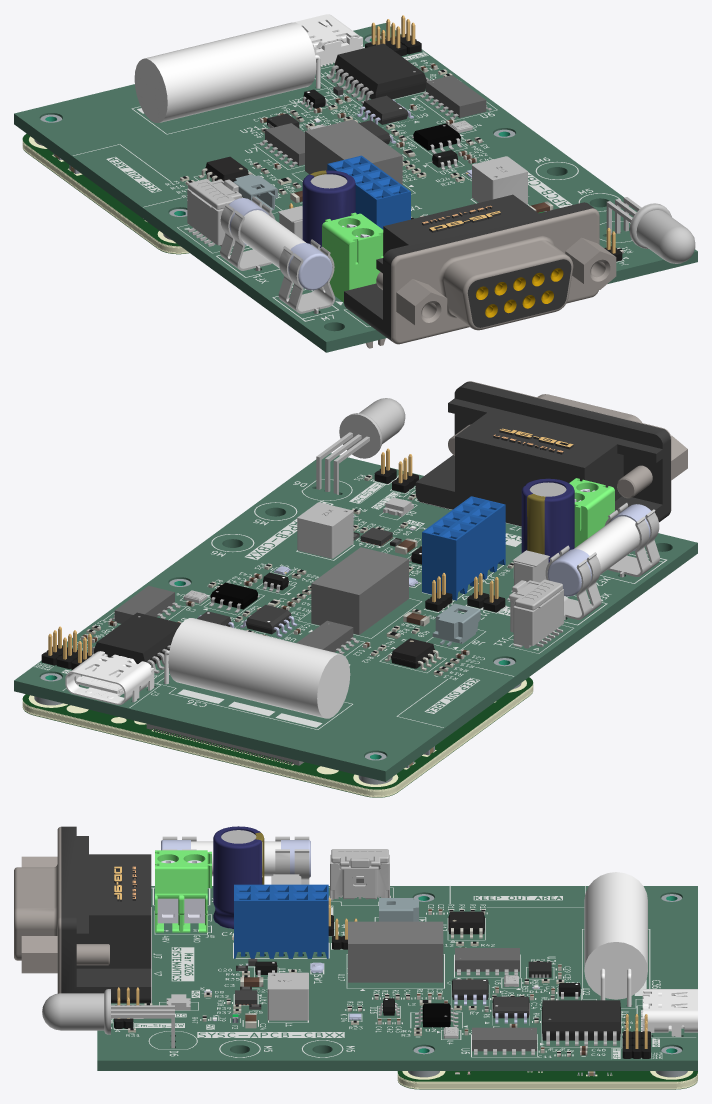
The model's file is SYSCON1.glb.
3 views of the same model, one above another, from view 1: azimuth 30°, elevation 25°; view 2: azimuth 150°, elevation 25°; view 3: azimuth 270°, elevation 25° (orthographic). The views are drawn at different scales.
Parts seen in each view (by area): view 1: object 143, object 118, object 130, object 101, object 111, object 104, object 115, XF2, U6, XF1, U7, U9 (+2 smaller); view 2: object 143, object 118, object 130, object 101, object 104, object 115, object 111, XF2, XF1, U6, U7, object 88 (+1 smaller); view 3: object 143, object 118, object 130, object 101, object 104, object 111, object 115, U6, U7, XF1, U9, object 88 (+2 smaller).
Part boxes in pixels (x1,y1,x2,y2): object 143: (14,23,697,352); object 118: (233,43,616,348); object 130: (134,14,546,213); object 101: (187,150,695,290); object 111: (322,212,383,302); object 104: (305,119,402,184); object 115: (302,125,462,247); XF2: (278,239,335,313); U6: (420,75,492,119); XF1: (220,196,275,270); U7: (259,123,304,167); U9: (357,95,413,124); object 143: (14,453,697,797); object 118: (92,381,687,764); object 130: (65,527,392,718); object 101: (262,398,650,648); object 104: (311,547,408,634); object 115: (209,478,574,612); object 111: (569,478,614,547); XF2: (604,502,659,577); XF1: (545,545,601,619); U6: (109,585,180,623); U7: (296,620,359,654); object 88: (384,638,441,670); object 143: (97,885,697,1089); object 118: (14,826,620,1045); object 130: (232,872,697,1036); object 101: (42,840,459,1074); object 104: (348,921,443,982); object 111: (155,850,211,932); object 115: (213,826,458,1026); U6: (472,1027,536,1055); U7: (455,948,519,975); XF1: (275,836,309,884); U9: (492,996,529,1023); object 88: (448,911,484,938).
Bounding box in the file's own units: 0.055 × 0.0193 × 0.0911.
